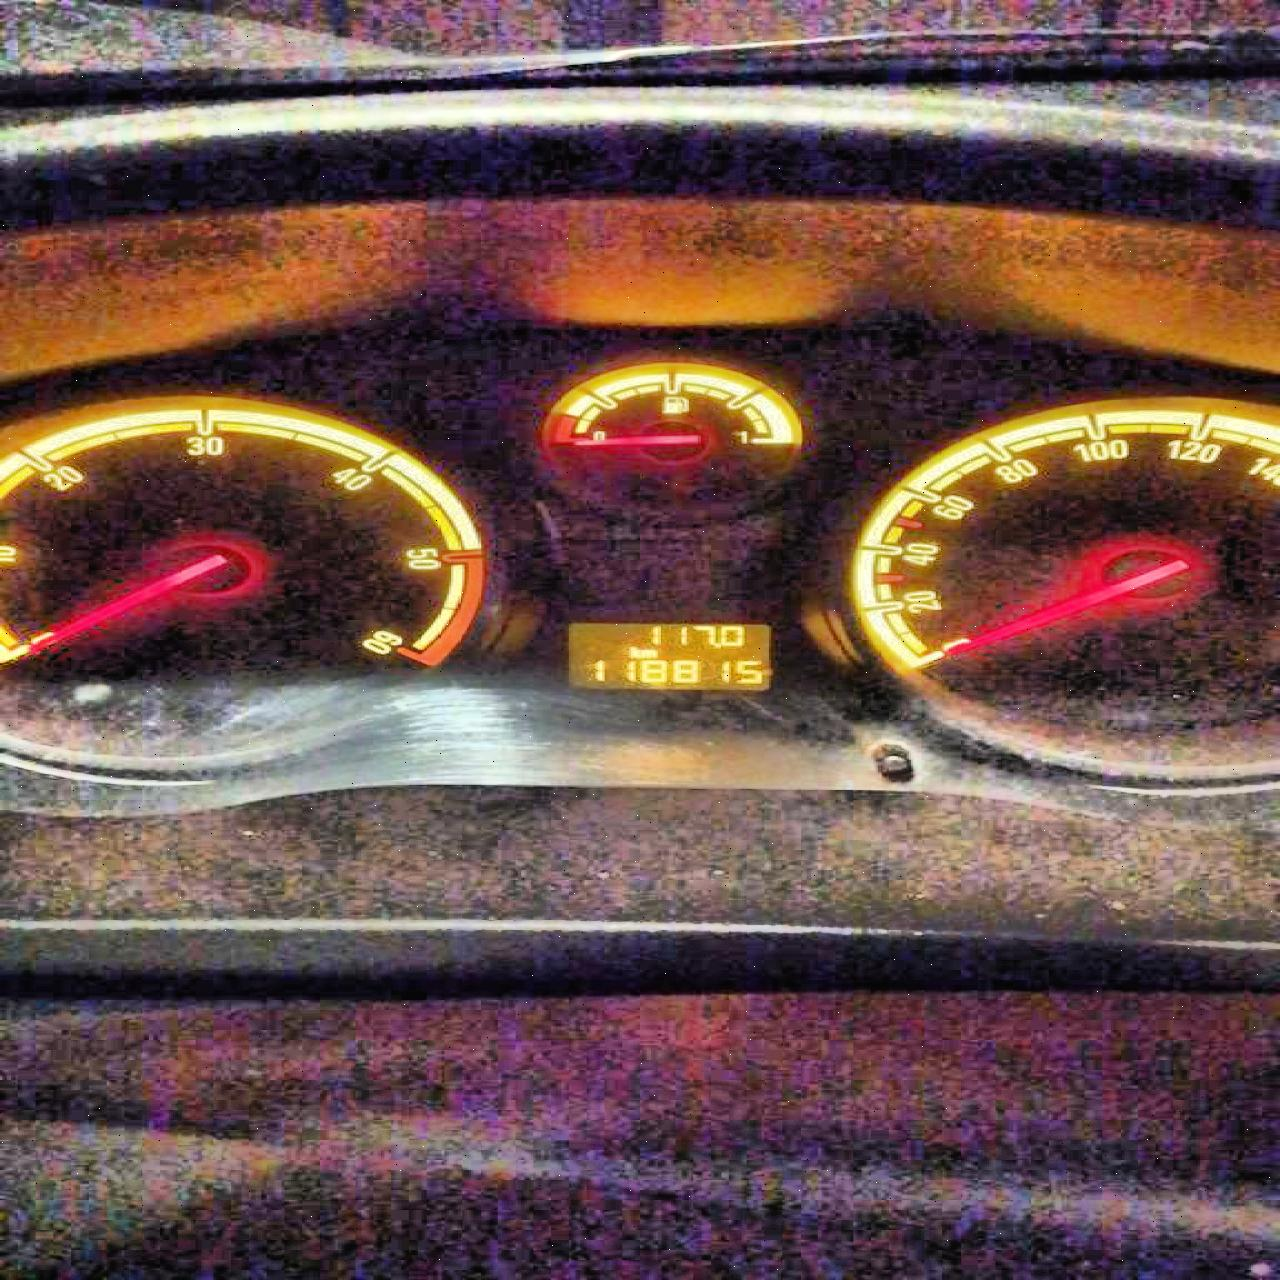-: (712, 642, 717, 647)
0: (717, 625, 742, 645)
1: (717, 659, 731, 682), (591, 659, 605, 680), (673, 624, 687, 644), (622, 659, 635, 680), (647, 625, 658, 644)
7: (689, 624, 713, 644)
8: (638, 659, 667, 681), (669, 659, 697, 681)
X: (627, 645, 640, 658), (640, 647, 655, 658)
odometer: (558, 618, 779, 694)
